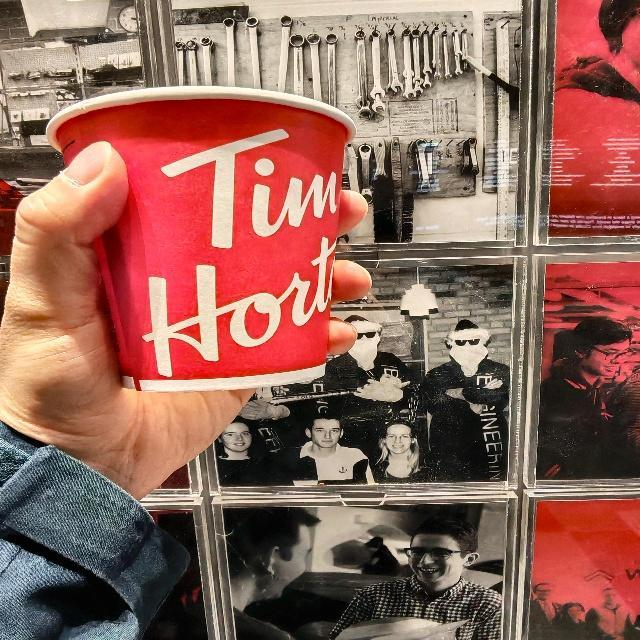timmies: (32, 88, 366, 399)
